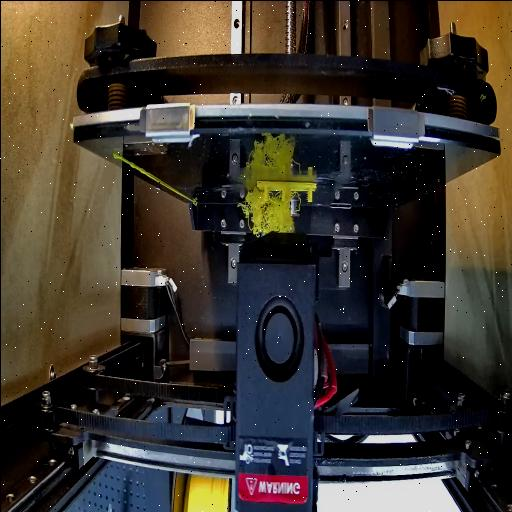spaghetti: (235, 191, 298, 243)
